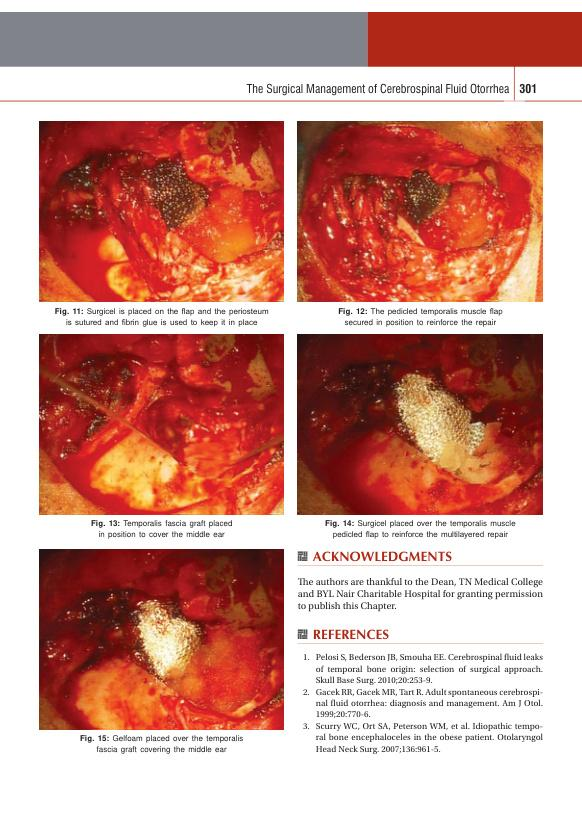caption: (54, 306, 270, 328), (324, 519, 518, 540), (337, 306, 504, 328), (79, 734, 244, 755), (90, 519, 233, 539)
header: (244, 82, 510, 97)
image: (296, 120, 544, 303), (297, 333, 544, 515), (39, 120, 285, 302), (39, 334, 285, 516), (39, 549, 284, 730)
list: (301, 651, 545, 756)
section-heading: (312, 550, 453, 562), (312, 628, 390, 641)
text: (297, 577, 544, 613)
